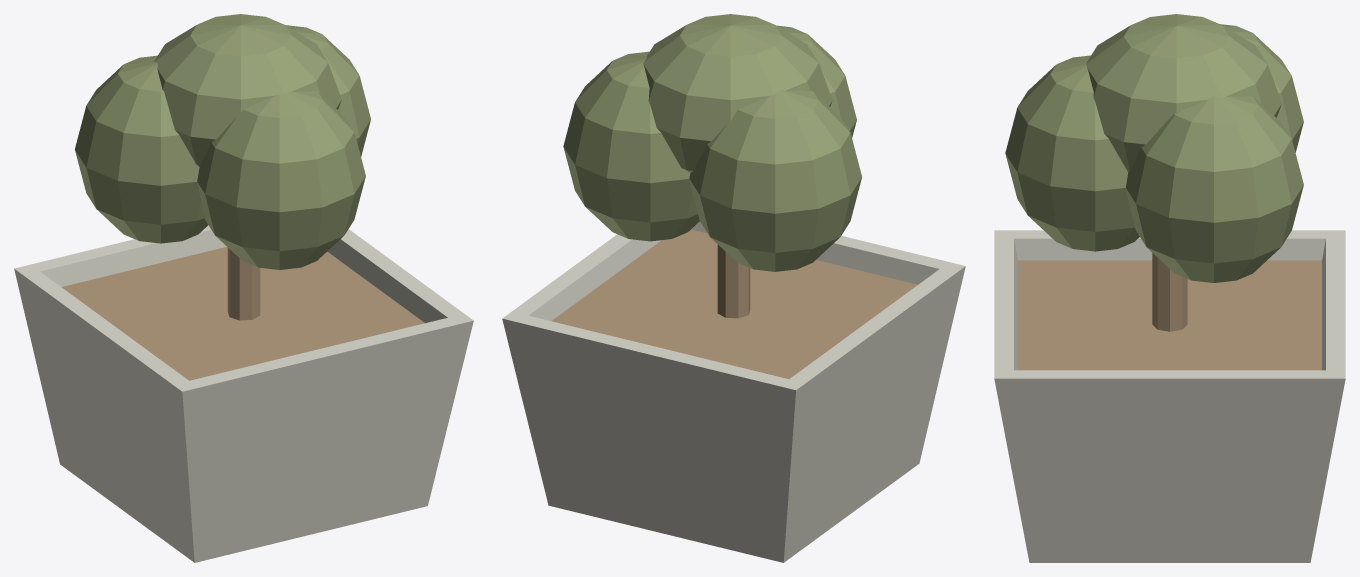
Rendered from planter.fbx.
3 views of the same model, side by side, from view 1: azimuth 30°, elevation 25°; view 2: azimuth 150°, elevation 25°; view 3: azimuth 270°, elevation 25° (orthographic). The views are drawn at different scales.
Parts seen in each view (by area): view 1: planter; view 2: planter; view 3: planter.
Part boxes in pixels (x1,y1,x2,y2): planter: [14, 14, 473, 562]; planter: [502, 14, 965, 562]; planter: [994, 14, 1345, 562].
Size of the model in its own units: 0.8 by 1.2 by 0.8.
